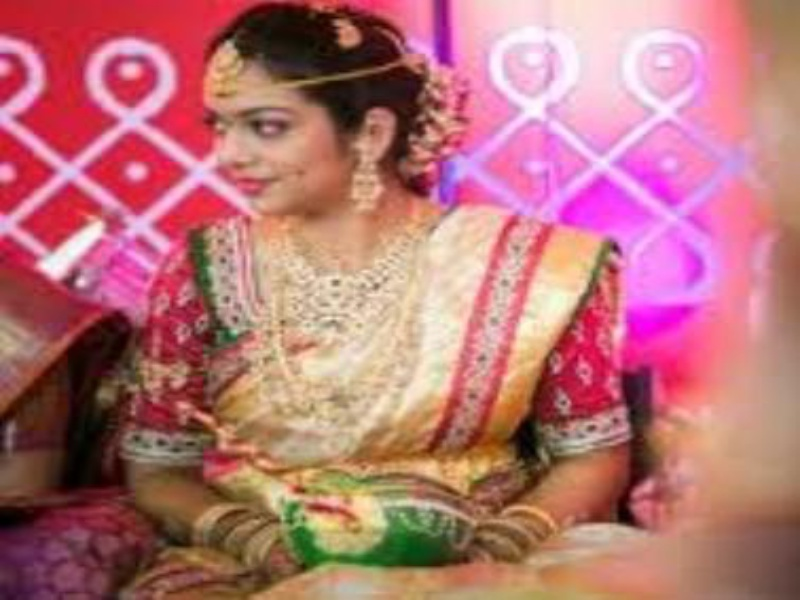TsisyArotava: (177, 17, 374, 261)
